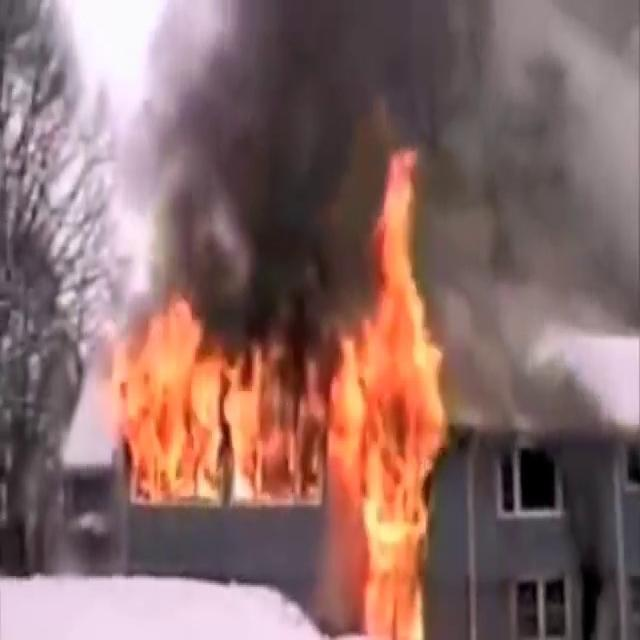Fire: (314, 150, 454, 634), (113, 321, 330, 514)
Smoke: (97, 0, 635, 309)
